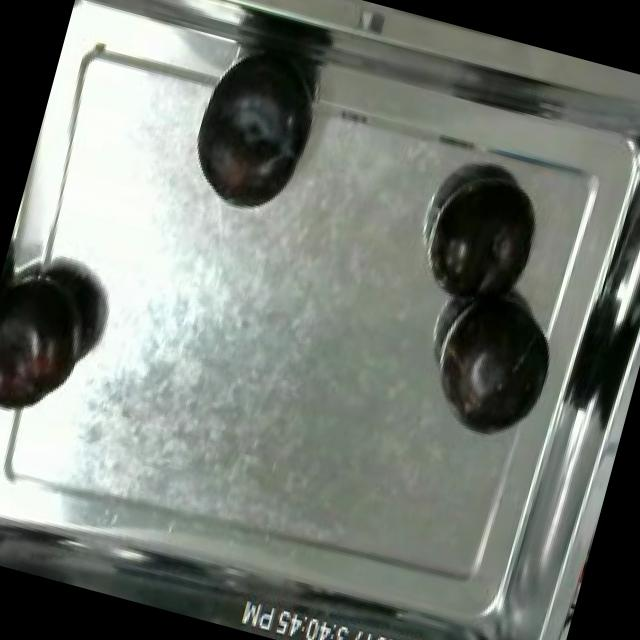Fruit: (174, 36, 334, 230), (421, 280, 569, 452), (0, 242, 117, 436), (416, 165, 549, 321)
